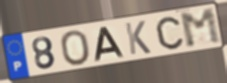8: (31, 35, 57, 71)
A: (94, 26, 127, 63)
C: (154, 15, 185, 51)
K: (123, 19, 153, 57)
M: (178, 6, 224, 50)
O: (58, 29, 92, 67)
